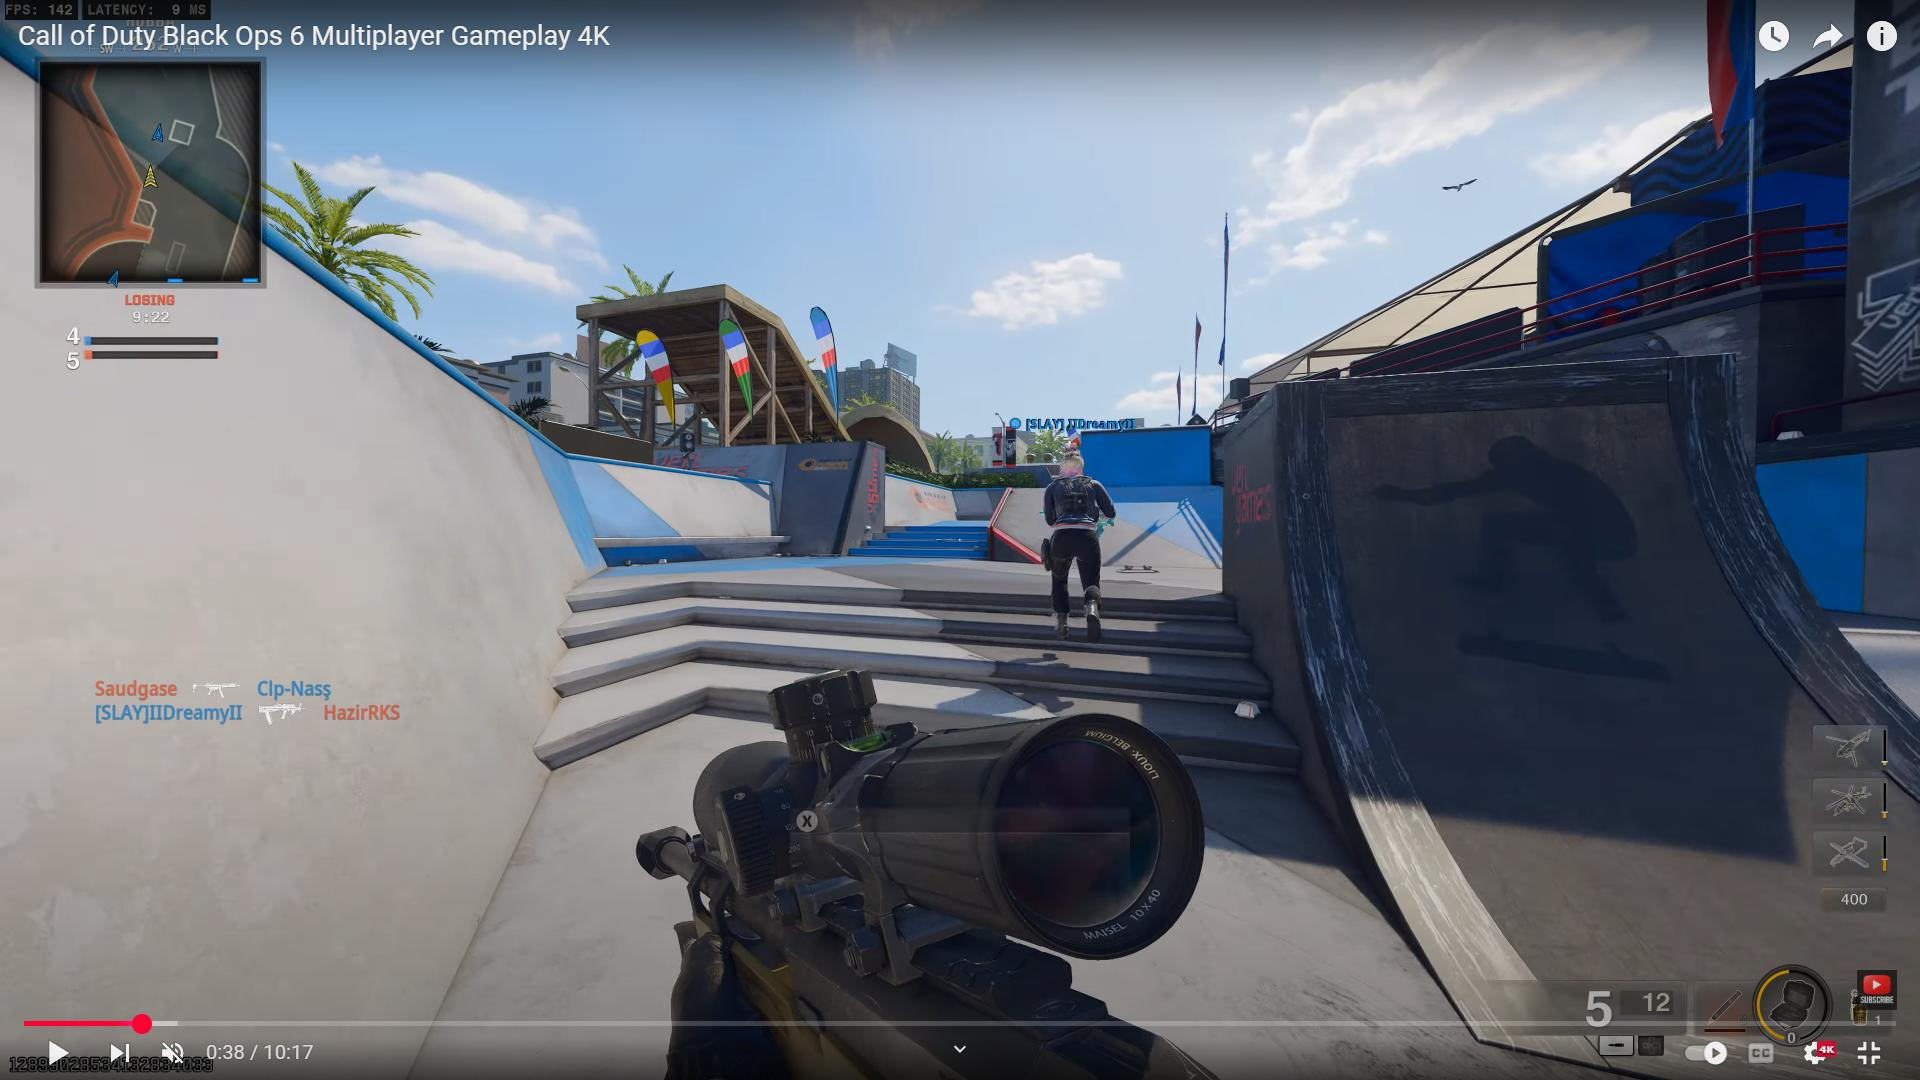Enemy: (1009, 444, 1137, 634)
